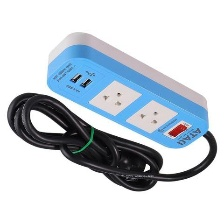three_eye_plug: (44, 26, 212, 152)
